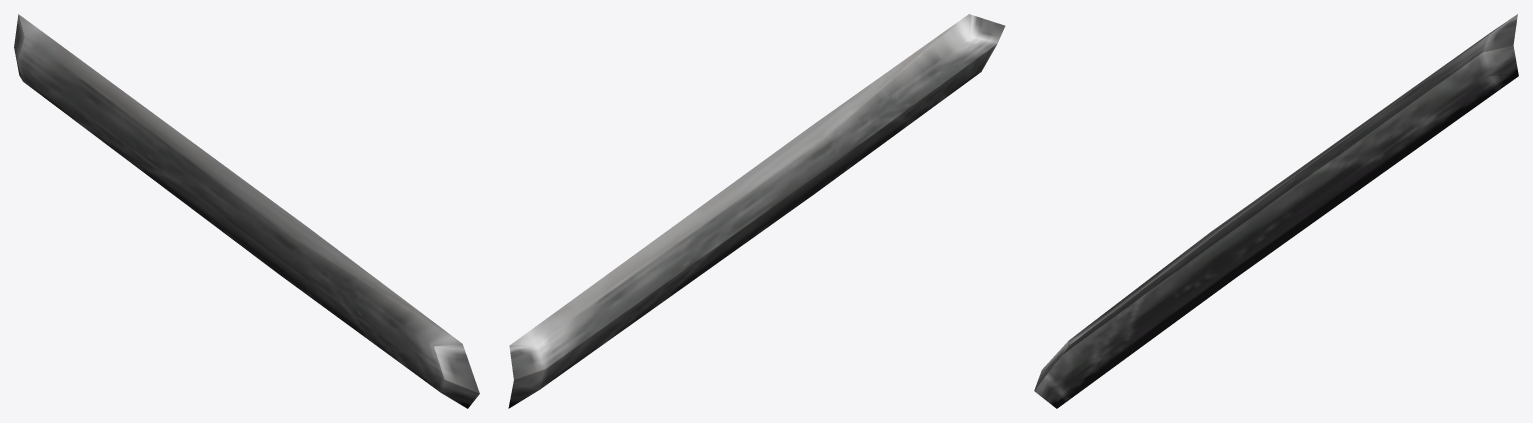
The picture shows the model from 3 angles, left to right: view 1: azimuth 30°, elevation 25°; view 2: azimuth 150°, elevation 25°; view 3: azimuth 330°, elevation 25°; orthographic projection. The views are drawn at different scales.
Parts seen in each view (by area): view 1: wg_l_lr_sv; view 2: wg_l_lr_sv; view 3: wg_l_lr_sv.
Part boxes in pixels (x1=…): wg_l_lr_sv: x1=14, y1=14, x2=479, y2=408; wg_l_lr_sv: x1=508, y1=14, x2=1005, y2=408; wg_l_lr_sv: x1=1034, y1=14, x2=1518, y2=408.
Size of the model in its own units: 0.0406 by 0.0972 by 1.35.
Materials: 1 (1 with a texture image).
